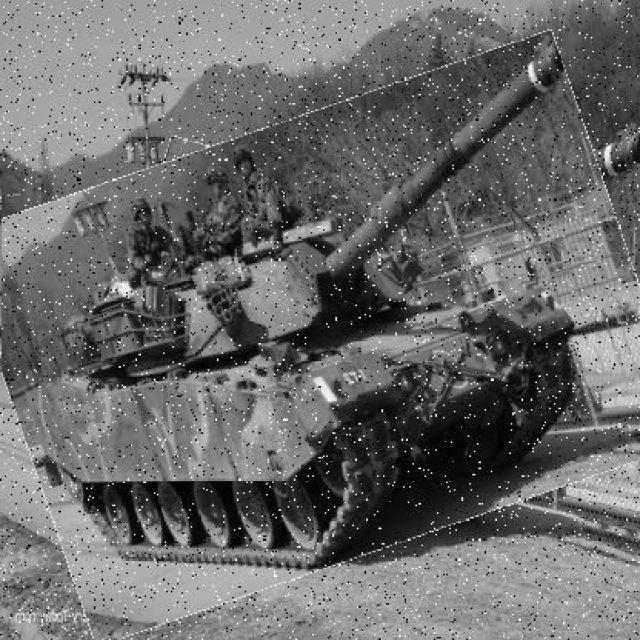Person: (211, 132, 300, 235), (287, 127, 349, 244), (154, 139, 217, 238)
Tank: (3, 75, 640, 604)
